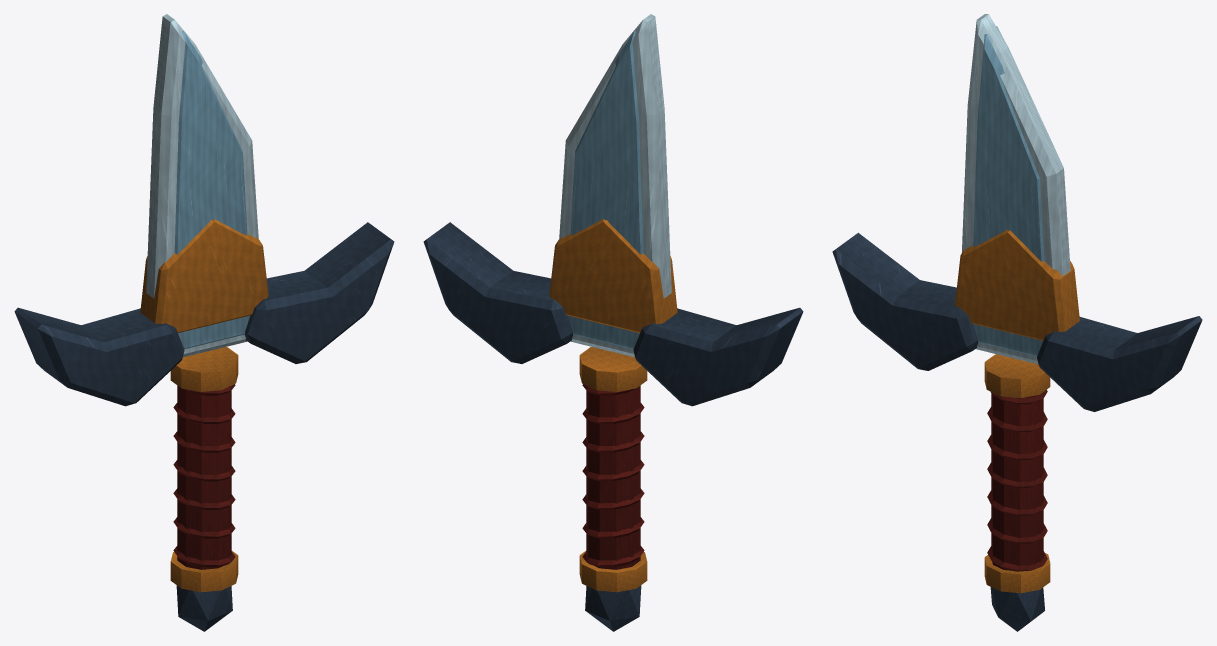
File: dagger-t1.glb
3 views of the same model, side by side, from view 1: azimuth 30°, elevation 25°; view 2: azimuth 150°, elevation 25°; view 3: azimuth 330°, elevation 25° (orthographic). The views are drawn at different scales.
Parts seen in each view (by area): view 1: Forged guard.001, Sculpted blade core, Forged guard, Blade collar, Cutting edge, Leather grip, Grip ferrule.001, Faceted pommel, Grip ferrule; view 2: Forged guard.001, Sculpted blade core, Forged guard, Blade collar, Cutting edge, Leather grip, Grip ferrule.001, Faceted pommel, Grip ferrule; view 3: Forged guard, Sculpted blade core, Forged guard.001, Blade collar, Cutting edge, Leather grip, Grip ferrule.001, Faceted pommel, Grip ferrule.
Boxes of the visible parts, x1,y1,x2,y2 form: Forged guard.001: (244,222,394,363); Sculpted blade core: (174,31,249,348); Forged guard: (14,307,184,406); Blade collar: (140,219,268,332); Cutting edge: (146,14,258,357); Leather grip: (177,385,231,569); Grip ferrule.001: (170,347,238,391); Faceted pommel: (176,585,232,631); Grip ferrule: (170,551,238,592); Forged guard.001: (423,222,573,363); Sculpted blade core: (568,31,643,348); Forged guard: (633,307,803,406); Blade collar: (549,219,677,332); Cutting edge: (559,14,671,357); Leather grip: (586,385,640,569); Grip ferrule.001: (579,347,647,391); Faceted pommel: (585,585,641,631); Grip ferrule: (579,551,647,592); Forged guard: (832,232,978,370); Sculpted blade core: (973,26,1044,356); Forged guard.001: (1037,316,1202,411); Blade collar: (955,230,1079,340); Cutting edge: (962,14,1070,364); Leather grip: (991,393,1043,570); Grip ferrule.001: (984,354,1050,397); Faceted pommel: (990,587,1044,631); Grip ferrule: (984,553,1050,593).
Size of the model in its own units: 0.2396 by 0.4 by 0.0402.
Materials: 1 (1 with a texture image).
